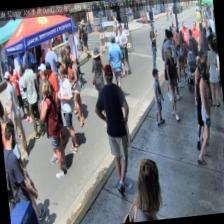person: (90, 64, 136, 196), (118, 155, 164, 223), (89, 47, 110, 114), (105, 34, 127, 92), (203, 40, 222, 105)
